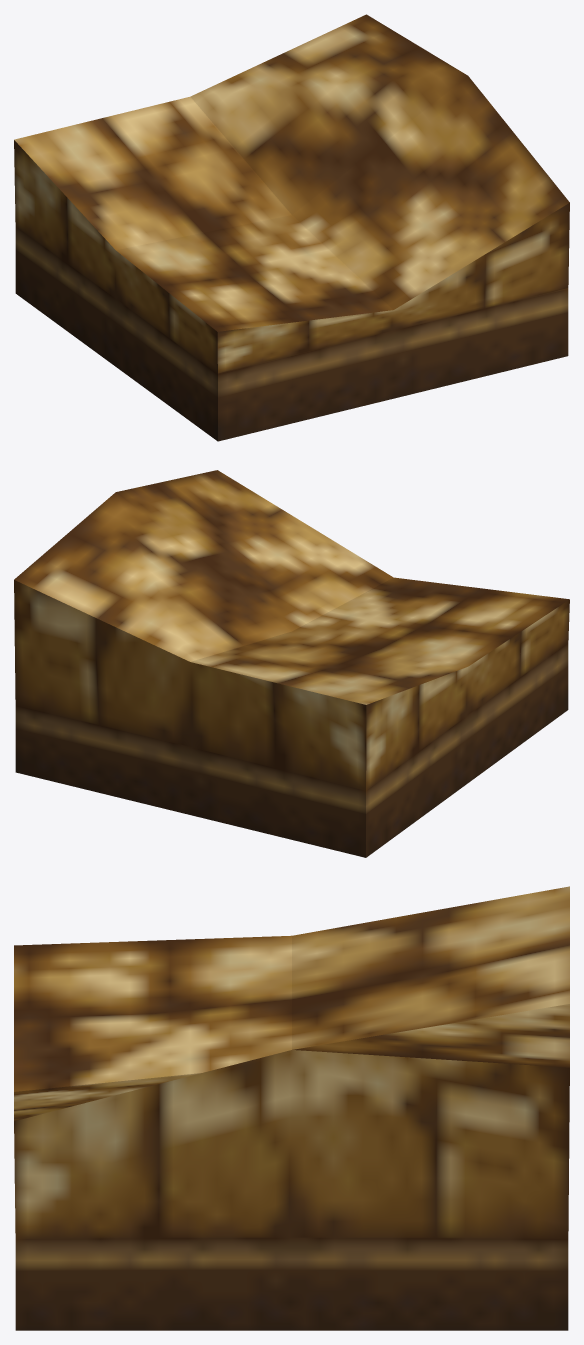
File: Inside_Poly_Wall_Pillar_02.obj
The picture shows the model from 3 angles, top to bottom: view 1: azimuth 30°, elevation 25°; view 2: azimuth 150°, elevation 25°; view 3: azimuth 270°, elevation 25°; orthographic projection. The views are drawn at different scales.
Visible parts, largest first — view 1: Cube.001; view 2: Cube.001; view 3: Cube.001.
Boxes of the visible parts, <box> form: Cube.001: <box>14,14,569,441</box>; Cube.001: <box>14,470,569,857</box>; Cube.001: <box>14,886,569,1330</box>.
Bounding box in the file's own units: 1.07 × 0.5972 × 1.07.
1 material, 1 textured.
